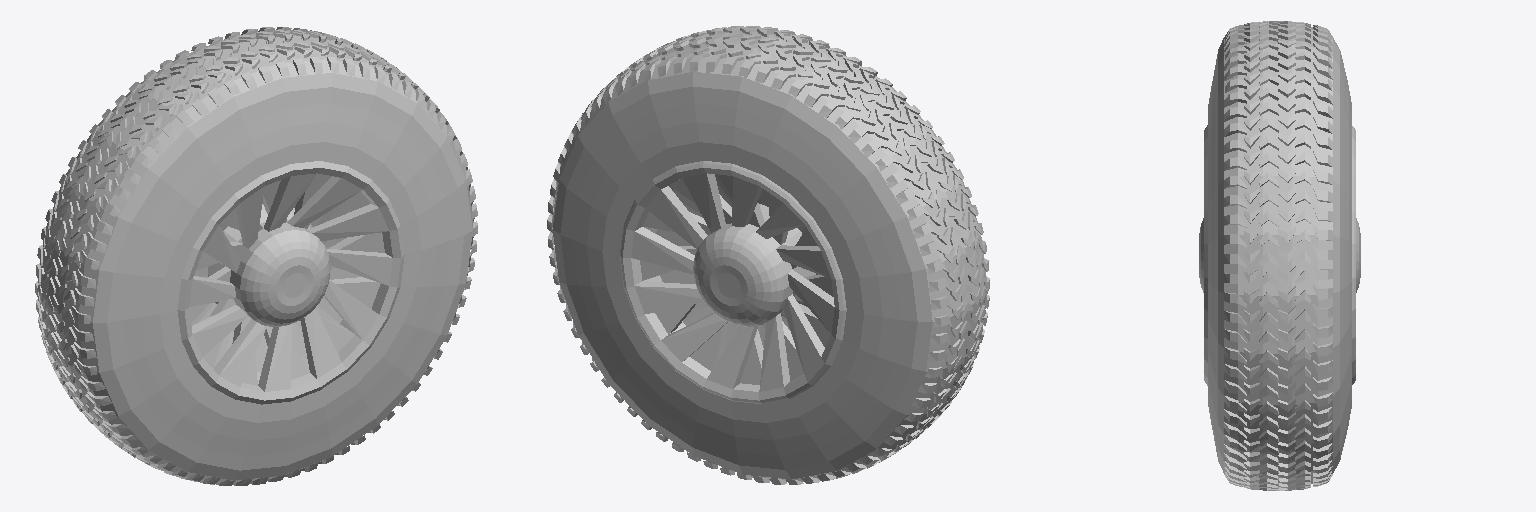
Rendered from Wheel2.obj.
The picture shows the model from 3 angles: view 1: azimuth 30°, elevation 25°; view 2: azimuth 150°, elevation 25°; view 3: azimuth 270°, elevation 25°; orthographic projection.
Visible parts, largest first — view 1: polySurface83; view 2: polySurface83; view 3: polySurface83.
Part boxes in pixels (bbox=[...]): polySurface83: bbox=[35, 27, 477, 485]; polySurface83: bbox=[547, 26, 989, 484]; polySurface83: bbox=[1199, 21, 1360, 490].
Size of the model in its own units: 4.95 by 4.95 by 1.7.